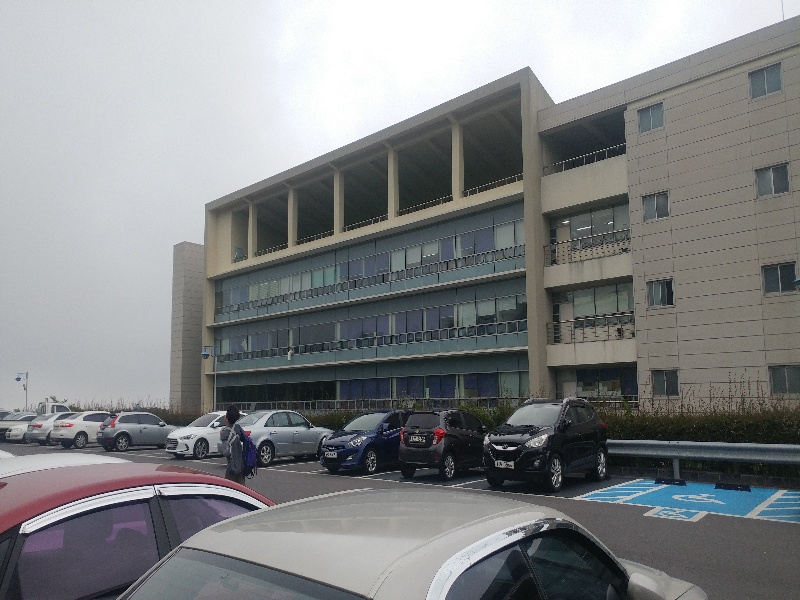Engineering College Building 4: (171, 74, 792, 401), (205, 190, 773, 392)
